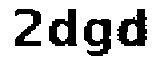2: (12, 6, 45, 52)
d: (48, 6, 80, 50), (118, 5, 150, 49)
g: (83, 16, 114, 60)
